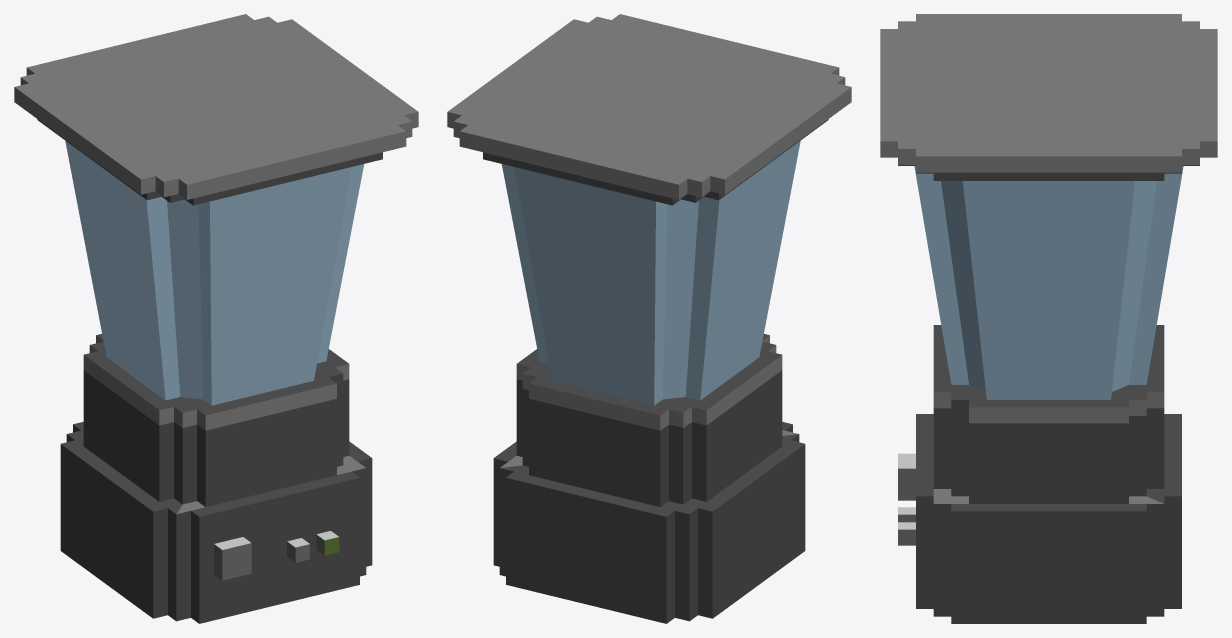
The model's file is BeanDispenser.fbx.
3 views of the same model, side by side, from view 1: azimuth 30°, elevation 25°; view 2: azimuth 150°, elevation 25°; view 3: azimuth 270°, elevation 25° (orthographic). The views are drawn at different scales.
Visible parts, largest first — view 1: Cube.010; view 2: Cube.010; view 3: Cube.010.
Part boxes in pixels (x1,y1,x2,y2): Cube.010: (14, 14, 418, 623); Cube.010: (447, 14, 851, 623); Cube.010: (880, 14, 1217, 623).
Bounding box in the file's own units: 190 × 300 × 190.
